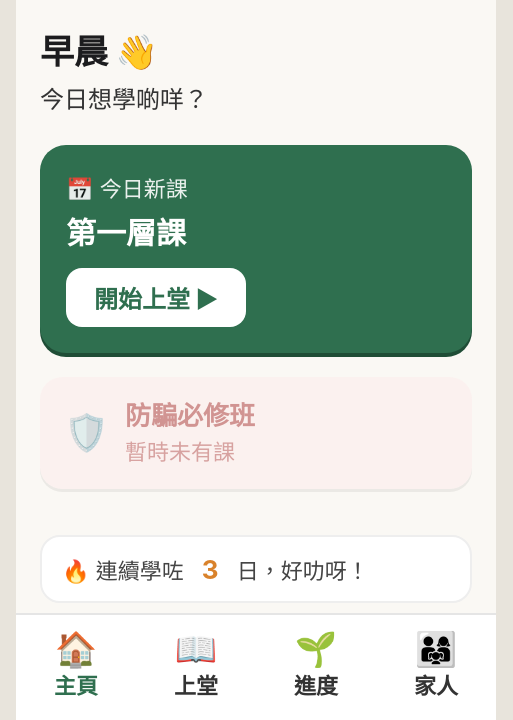
App course engine (elder) › opening a lesson from the 上堂 tab list shows that specific LessonScreen
The width and height of the screenshot is (513, 720).
Click the button "📖 上堂". click: {"x": 196, "y": 667}
box: [136,615,256,719]
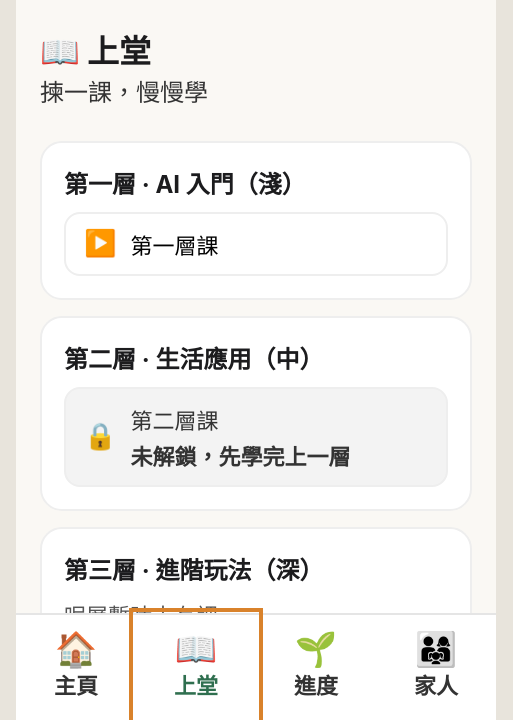
Click the text "第一層課". click: {"x": 174, "y": 246}
box: [130,234,218,259]
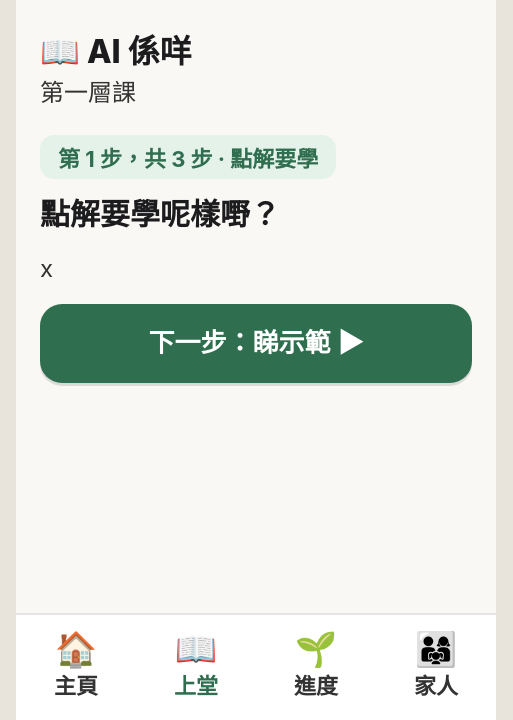
Now the heading "點解要學呢樣嘢？" is shown, box [40,196,280,232]
Now the text "第一層課" is shown, box [40,78,136,107]
